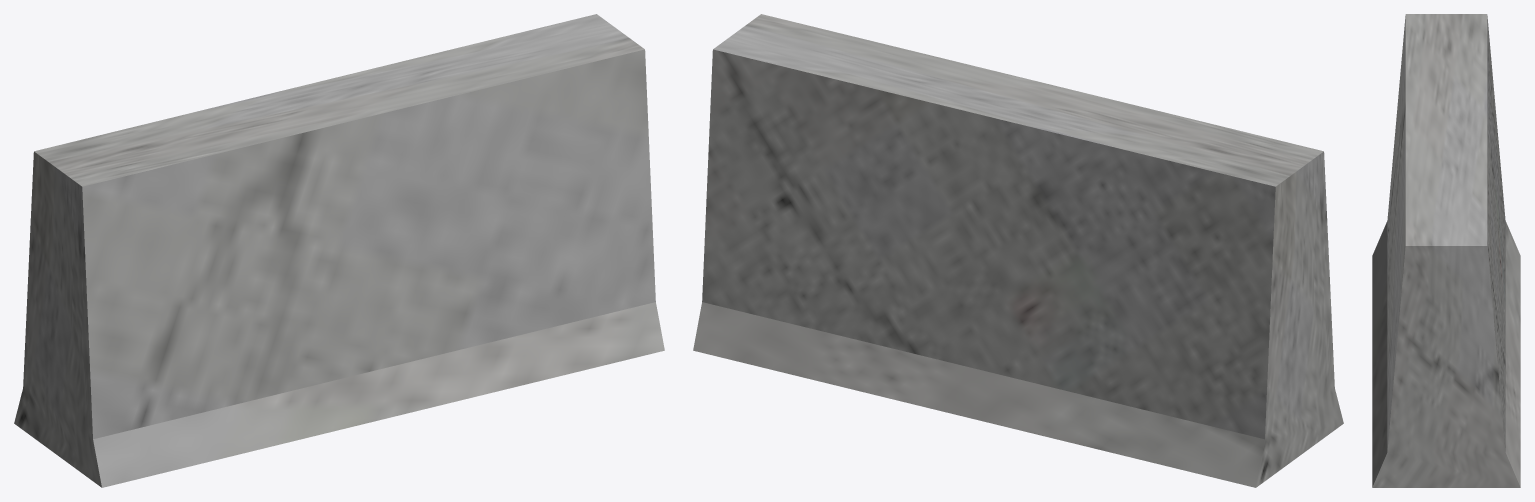
The model's file is Barricade.glb.
3 views of the same model, side by side, from view 1: azimuth 30°, elevation 25°; view 2: azimuth 150°, elevation 25°; view 3: azimuth 270°, elevation 25° (orthographic). The views are drawn at different scales.
Parts seen in each view (by area): view 1: Cube; view 2: Cube; view 3: Cube.
Part boxes in pixels (x1,y1,x2,y2): Cube: (14,14,664,487); Cube: (693,14,1343,487); Cube: (1372,14,1520,487).
Bounding box in the file's own units: 4.11 × 2 × 1.11.
1 material, 1 textured.
